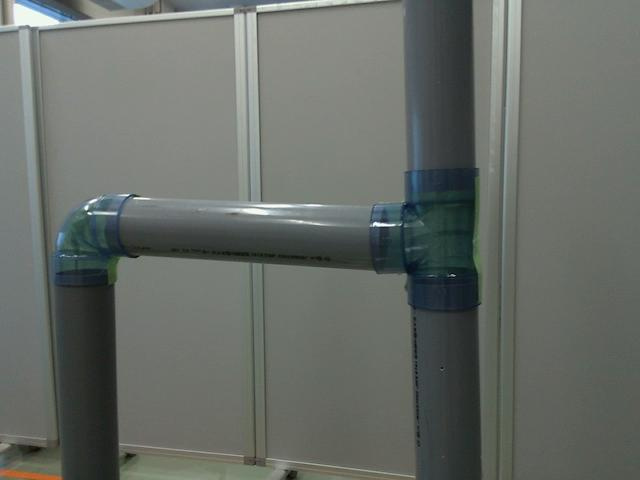bent: (50, 192, 150, 288)
junction: (368, 169, 484, 300)
